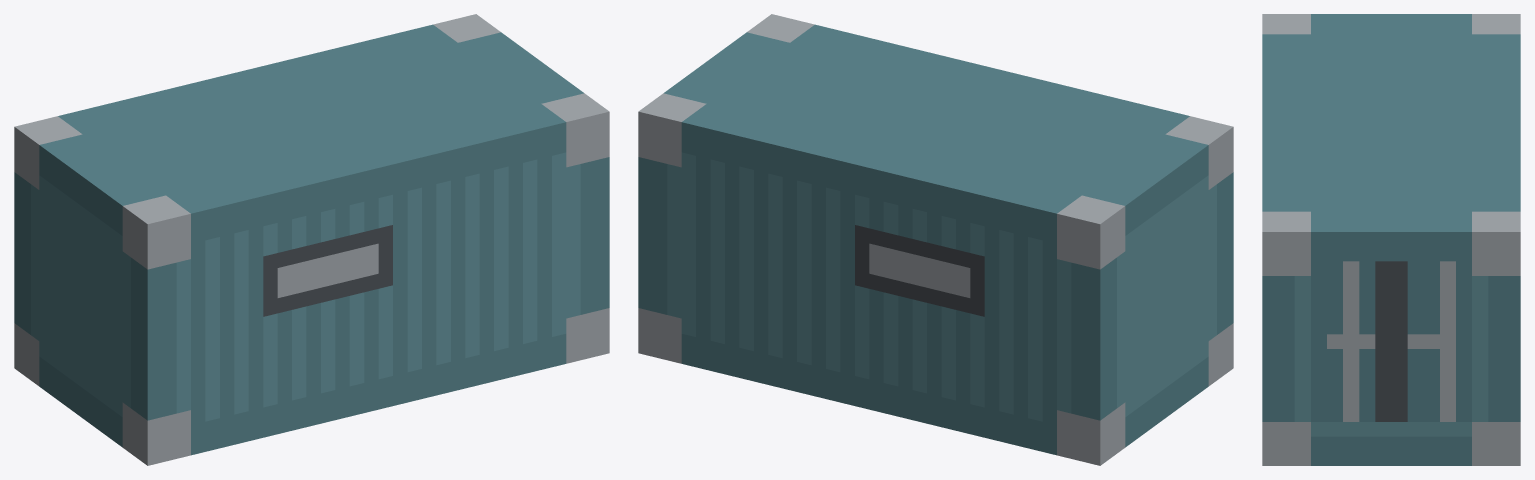
File: container.glb
3 renders of one model, left to right at view 1: azimuth 30°, elevation 25°; view 2: azimuth 150°, elevation 25°; view 3: azimuth 270°, elevation 25°, orthographic. The views are drawn at different scales.
Bounding box in the file's own units: 32 × 16 × 16.
